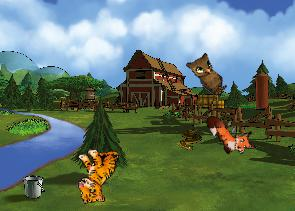fox: (202, 102, 260, 164)
owl: (182, 47, 236, 98)
tiger: (72, 145, 124, 204)
